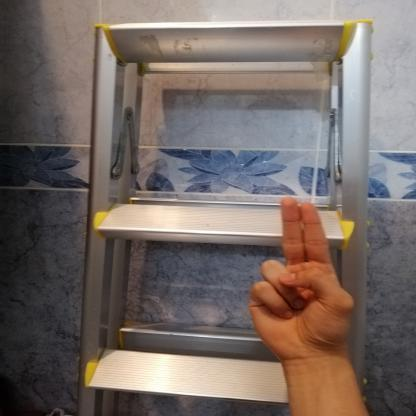TA: (236, 182, 369, 370)
